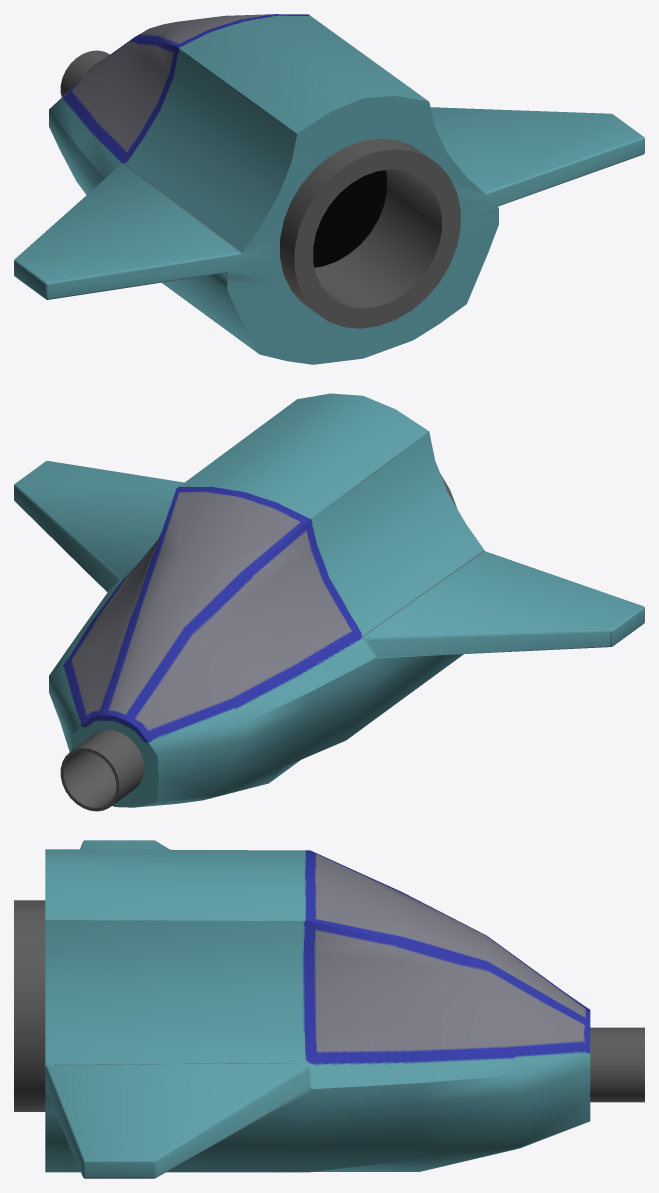
File: AllyShip.fbx
3 views of the same model, one above another, from view 1: azimuth 30°, elevation 25°; view 2: azimuth 150°, elevation 25°; view 3: azimuth 270°, elevation 25° (orthographic). The views are drawn at different scales.
Parts seen in each view (by area): view 1: Plane.001; view 2: Plane.001; view 3: Plane.001.
Boxes of the visible parts, box(x1,y1,x2,y2) form: Plane.001: box(14, 14, 644, 364); Plane.001: box(14, 393, 644, 811); Plane.001: box(14, 840, 644, 1178).
Size of the model in its own units: 575 by 238 by 477.
Materials: 1 (1 with a texture image).
